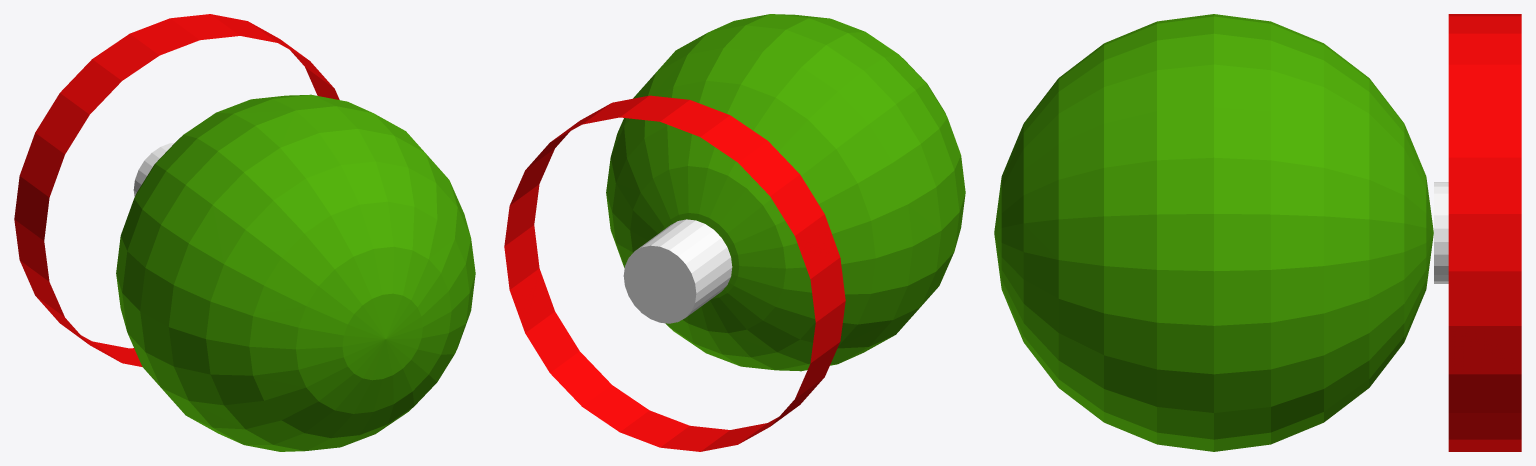
The model's file is LPE300cm.obj.
3 views of the same model, side by side, from view 1: azimuth 30°, elevation 25°; view 2: azimuth 150°, elevation 25°; view 3: azimuth 270°, elevation 25° (orthographic). The views are drawn at different scales.
Size of the model in its own units: 3 by 3 by 3.6.
